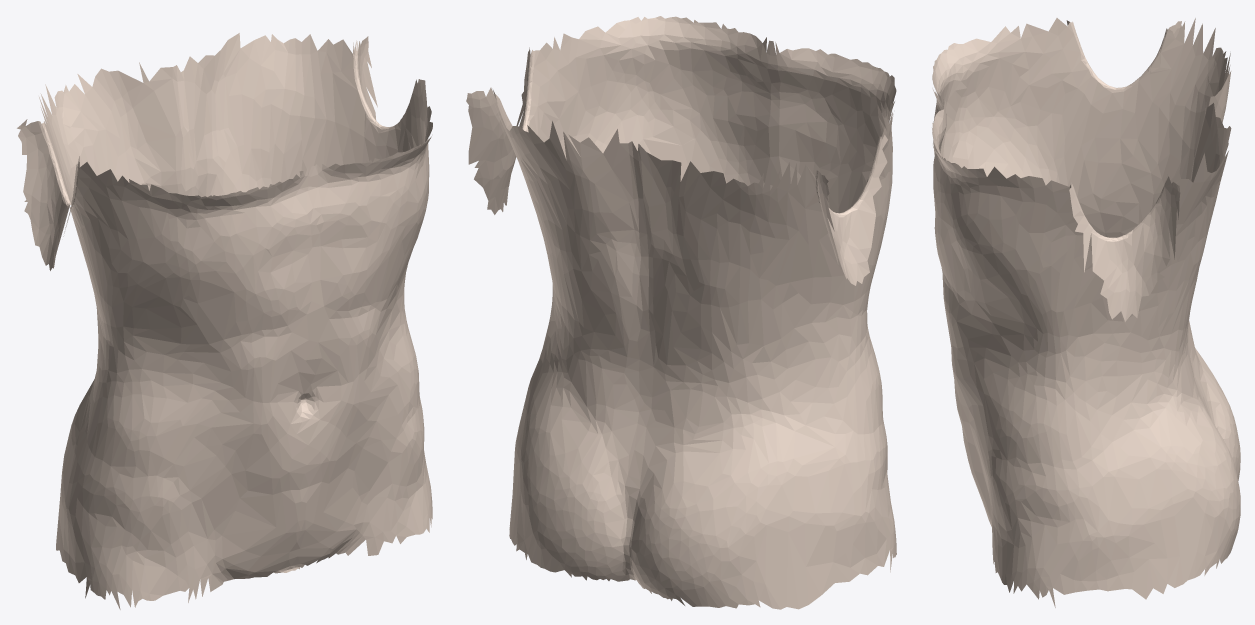
Rendered from abdomen-piel.glb.
3 renders of one model, left to right at view 1: azimuth 30°, elevation 25°; view 2: azimuth 150°, elevation 25°; view 3: azimuth 270°, elevation 25°, orthographic. The views are drawn at different scales.
Visible parts, largest first — view 1: piel_del_abdomen; view 2: piel_del_abdomen; view 3: piel_del_abdomen.
Boxes of the visible parts, x1,y1,x2,y2 form: piel_del_abdomen: [17, 33, 432, 609]; piel_del_abdomen: [466, 16, 896, 609]; piel_del_abdomen: [932, 18, 1240, 607].
Bounding box in the file's own units: 0.354 × 0.4283 × 0.2668.
